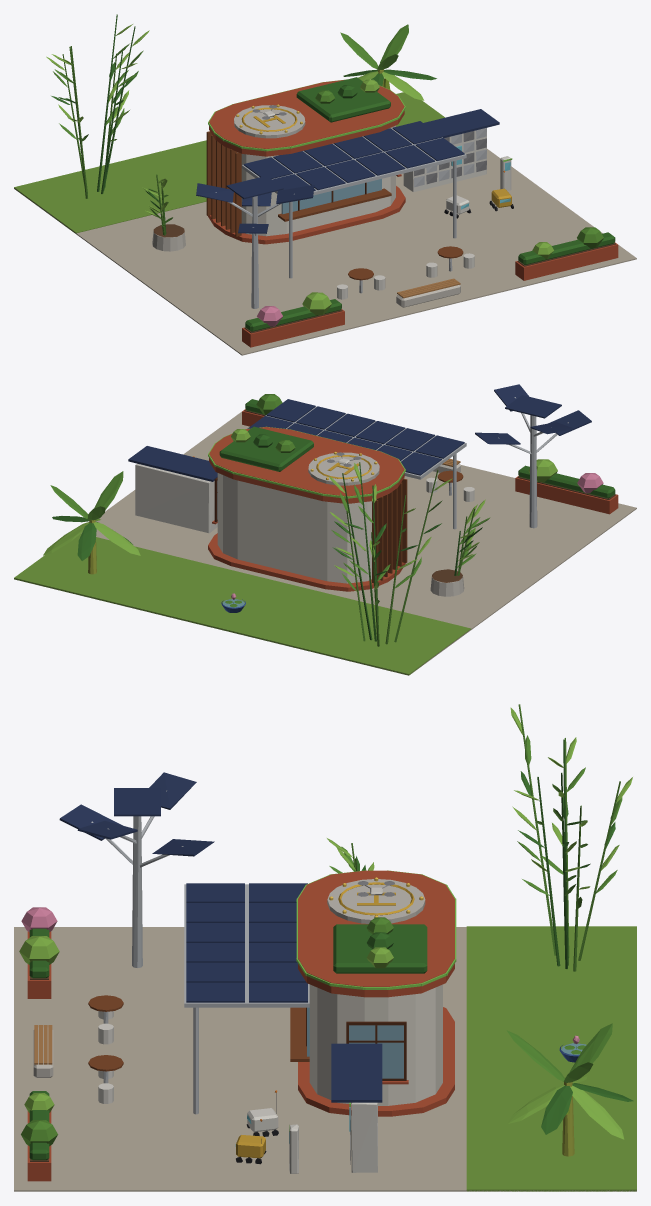
The model's file is shop_1.glb.
3 renders of one model, top to bottom at view 1: azimuth 30°, elevation 25°; view 2: azimuth 150°, elevation 25°; view 3: azimuth 270°, elevation 25°, orthographic. The views are drawn at different scales.
Visible parts, largest first — view 1: body, windows; view 2: body, windows; view 3: body, windows.
Part boxes in pixels (x1,y1,x2,y2): body: (14,14,636,355); windows: (208,79,512,209); body: (14,384,636,675); windows: (208,426,405,498); body: (14,704,636,1191); windows: (235,870,456,1146).
Bounding box in the file's own units: 15.9 × 6.76 × 15.9.
